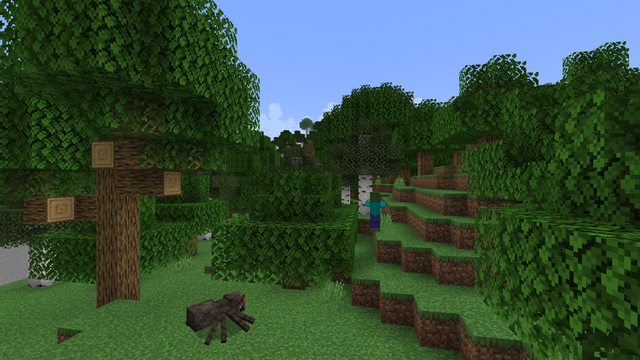araignees: (186, 286, 251, 340)
zombies: (369, 192, 381, 231)
